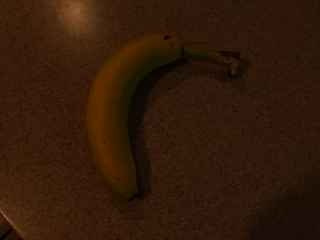banana: (83, 29, 244, 205)
